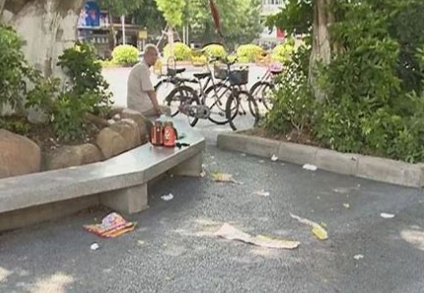garbage: (198, 221, 306, 252), (82, 212, 136, 243), (308, 221, 334, 244), (378, 207, 408, 223), (203, 171, 235, 183), (301, 159, 320, 178), (266, 155, 285, 167), (159, 194, 180, 204), (87, 243, 95, 253)
